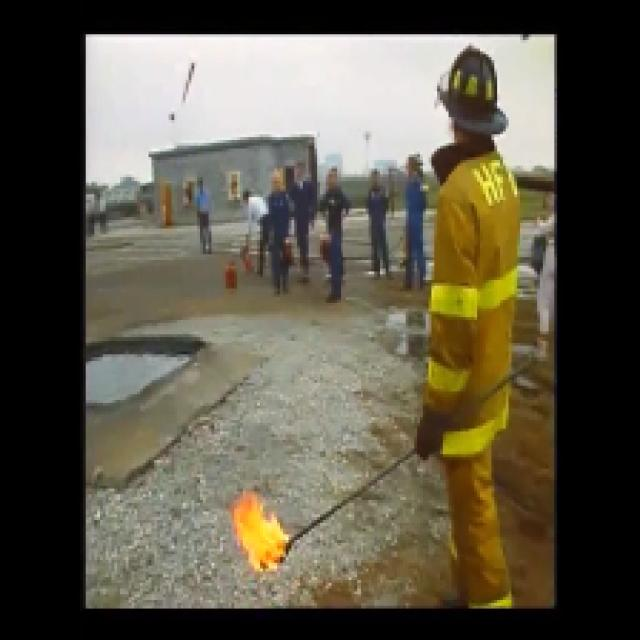fire: (228, 498, 295, 576)
